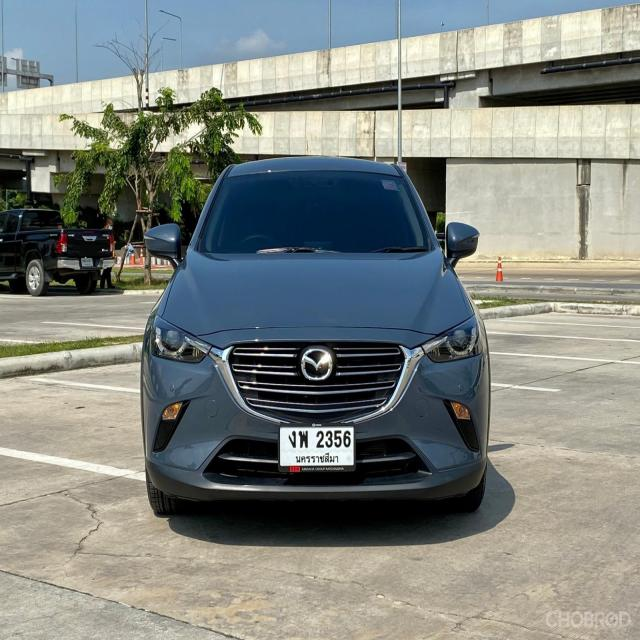license_plate: (277, 424, 356, 471)
